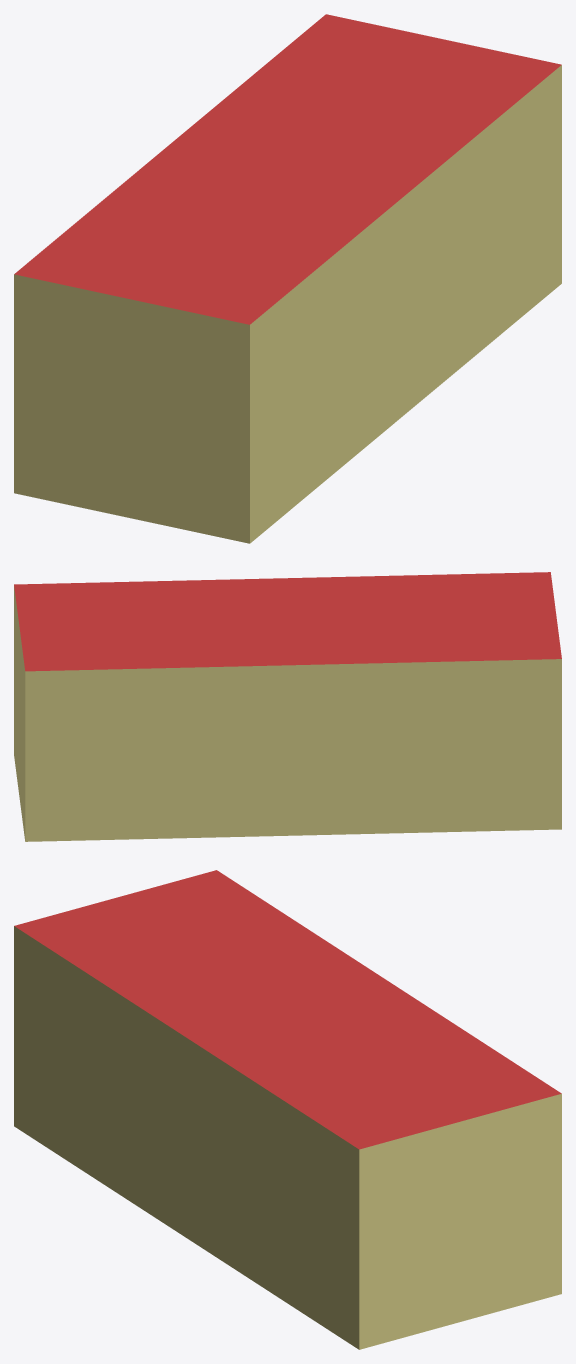
The picture shows the model from 3 angles, top to bottom: view 1: azimuth 30°, elevation 25°; view 2: azimuth 150°, elevation 25°; view 3: azimuth 270°, elevation 25°; orthographic projection. The views are drawn at different scales.
Bounding box in the file's own units: 15.61 × 12.93 × 5.22.
